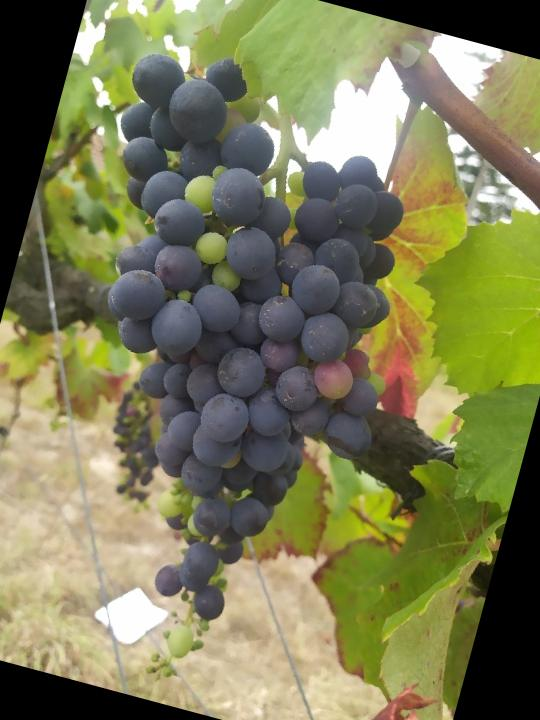grape: (0, 33, 458, 720)
